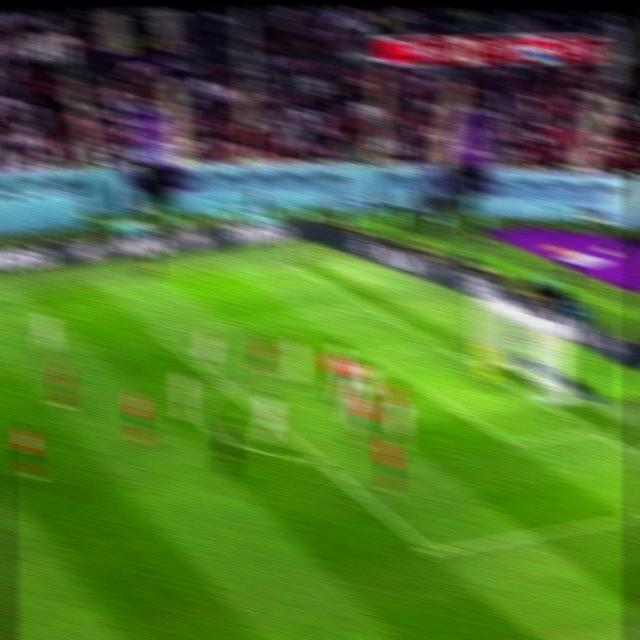bigarea_bottom_inner: (416, 534, 449, 568)
bigarea_top_inner: (144, 320, 173, 343)
bigarea_top_outter: (352, 292, 378, 314)
bottom_arc_area_intersection: (304, 445, 332, 473)
corner: (280, 254, 305, 272)
smallarea_bottom_inner: (497, 425, 527, 458)
smallarea_bottom_outter: (579, 415, 608, 443)
smallarea_top_inner: (355, 342, 383, 368)
smallarea_top_outter: (425, 332, 450, 355)
top_arc_area_intersection: (211, 372, 236, 394)
